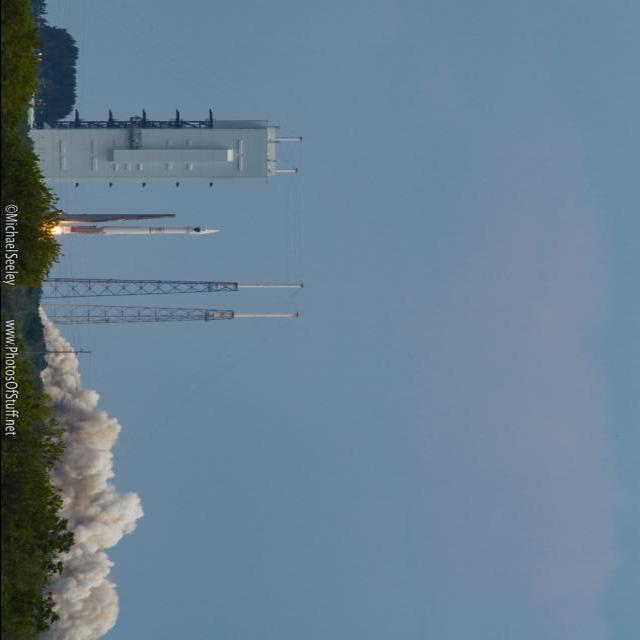Missile: (22, 223, 245, 245)
